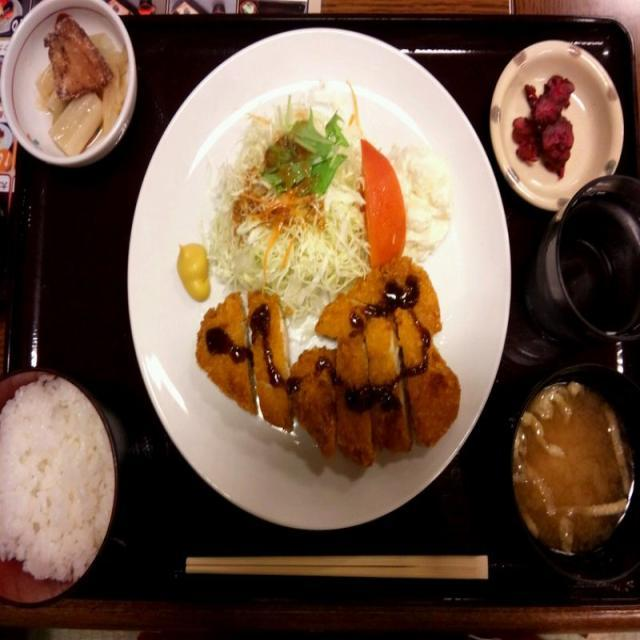Rice: (0, 362, 121, 608)
